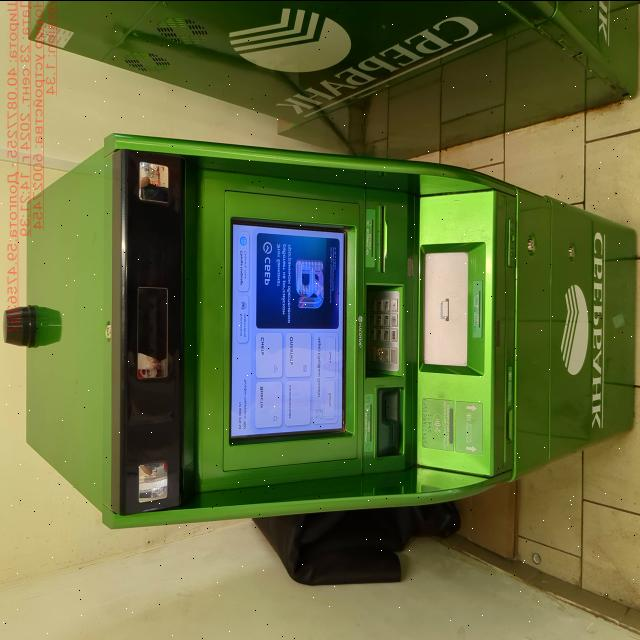bank: (25, 136, 636, 526), (26, 0, 640, 162)
